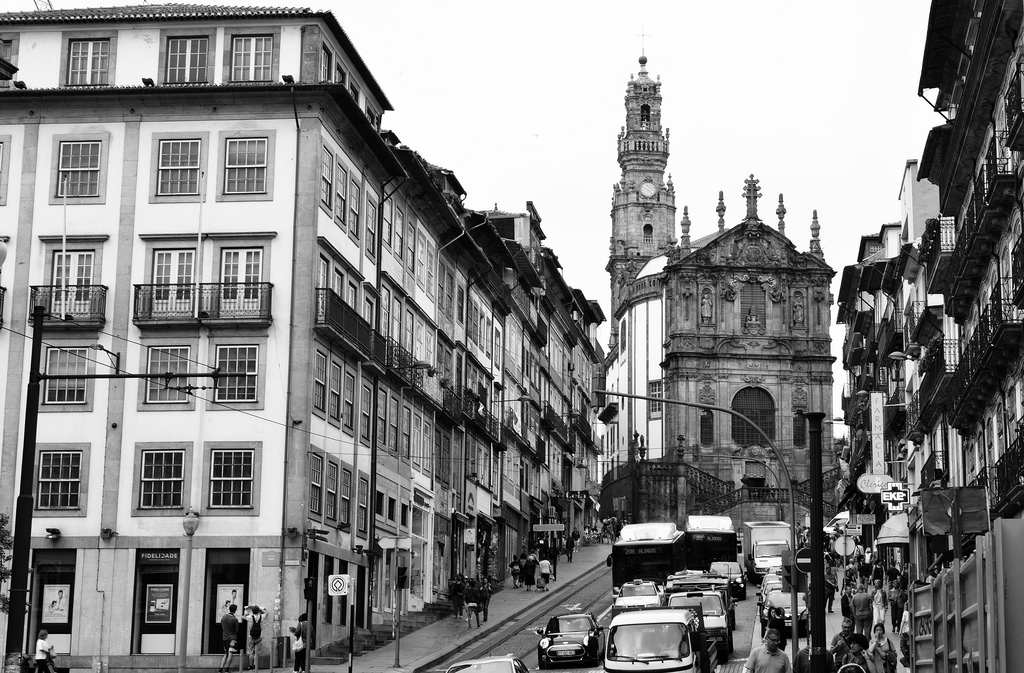clerigos: (606, 27, 682, 303)
